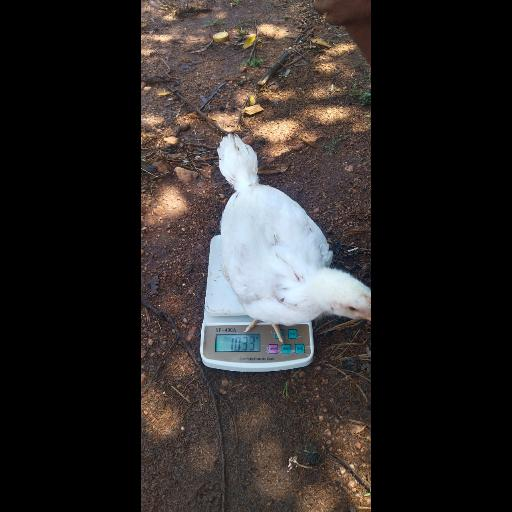chick: (213, 137, 371, 340)
